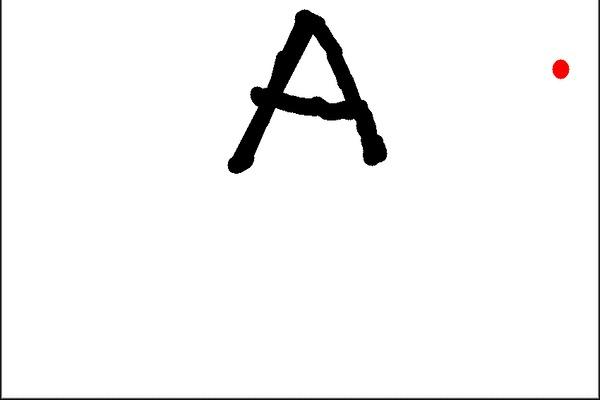A: (220, 3, 401, 180)
